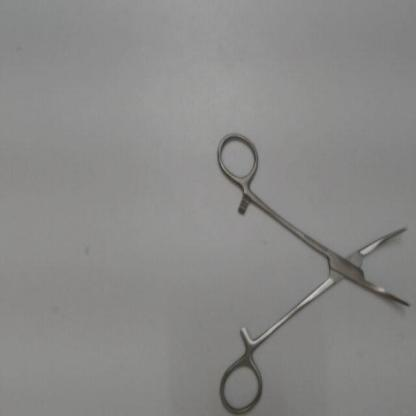Crile Artery Forceps: (210, 127, 413, 414)
